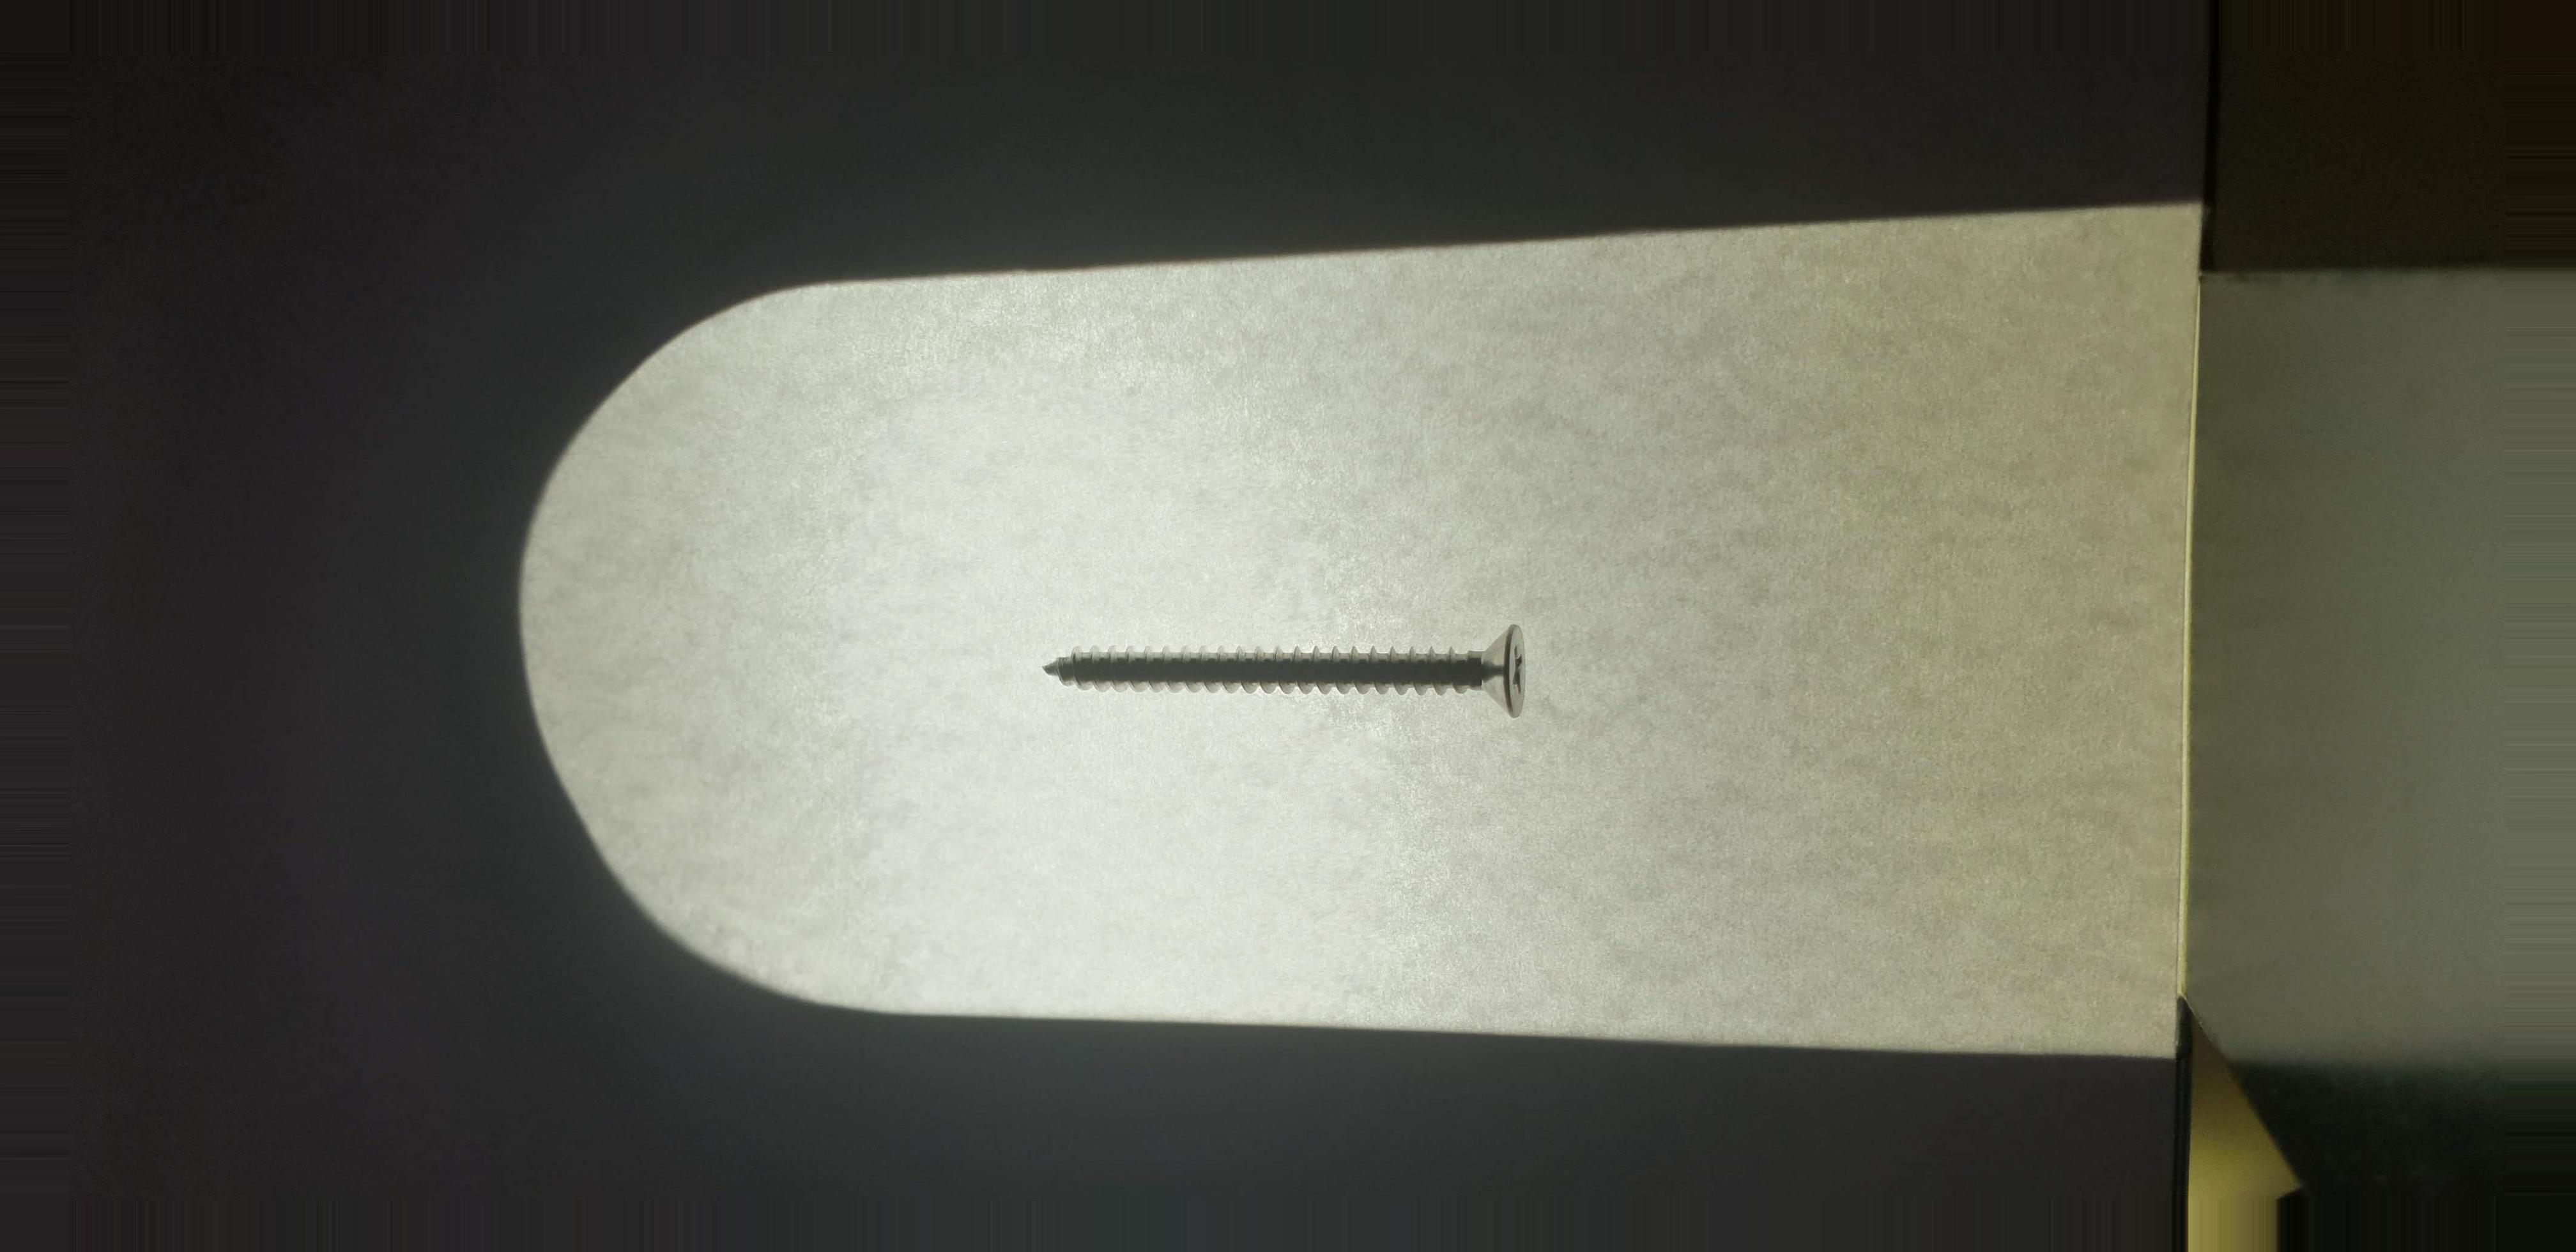S001: (1015, 590, 1567, 762)
